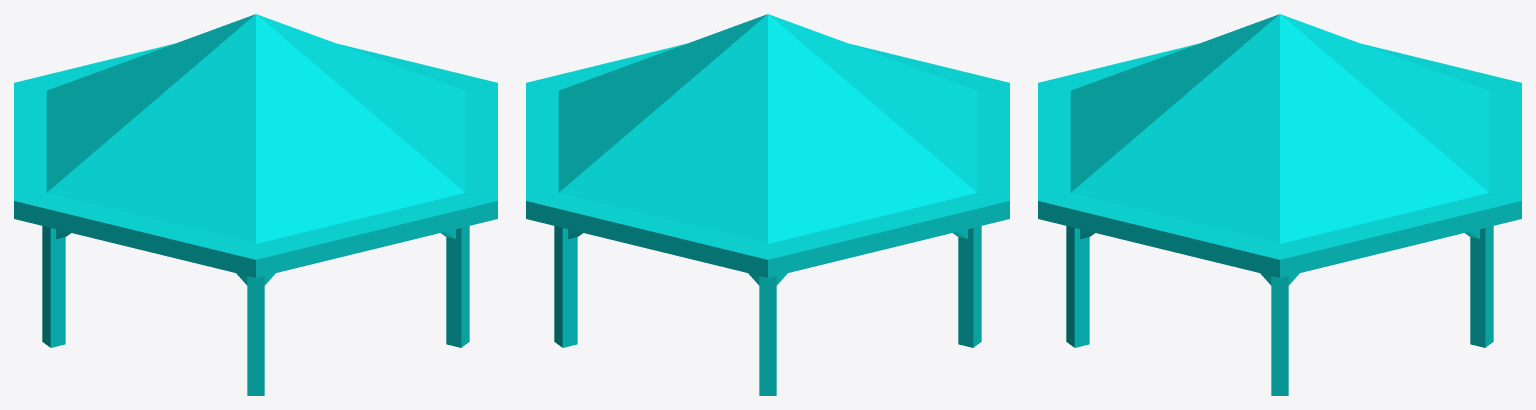
Rendered from SM_Prop_Pavilion_01_Collision.fbx.
3 renders of one model, left to right at view 1: azimuth 30°, elevation 25°; view 2: azimuth 150°, elevation 25°; view 3: azimuth 270°, elevation 25°, orthographic.
Visible parts, largest first — view 1: SM_Prop_Pavilion_01_Collision; view 2: SM_Prop_Pavilion_01_Collision; view 3: SM_Prop_Pavilion_01_Collision.
Boxes of the visible parts, box(x1,y1,x2,y2) form: SM_Prop_Pavilion_01_Collision: box(14, 14, 497, 395); SM_Prop_Pavilion_01_Collision: box(526, 14, 1009, 395); SM_Prop_Pavilion_01_Collision: box(1038, 14, 1521, 395).
Bounding box in the file's own units: 966 × 534 × 836.
